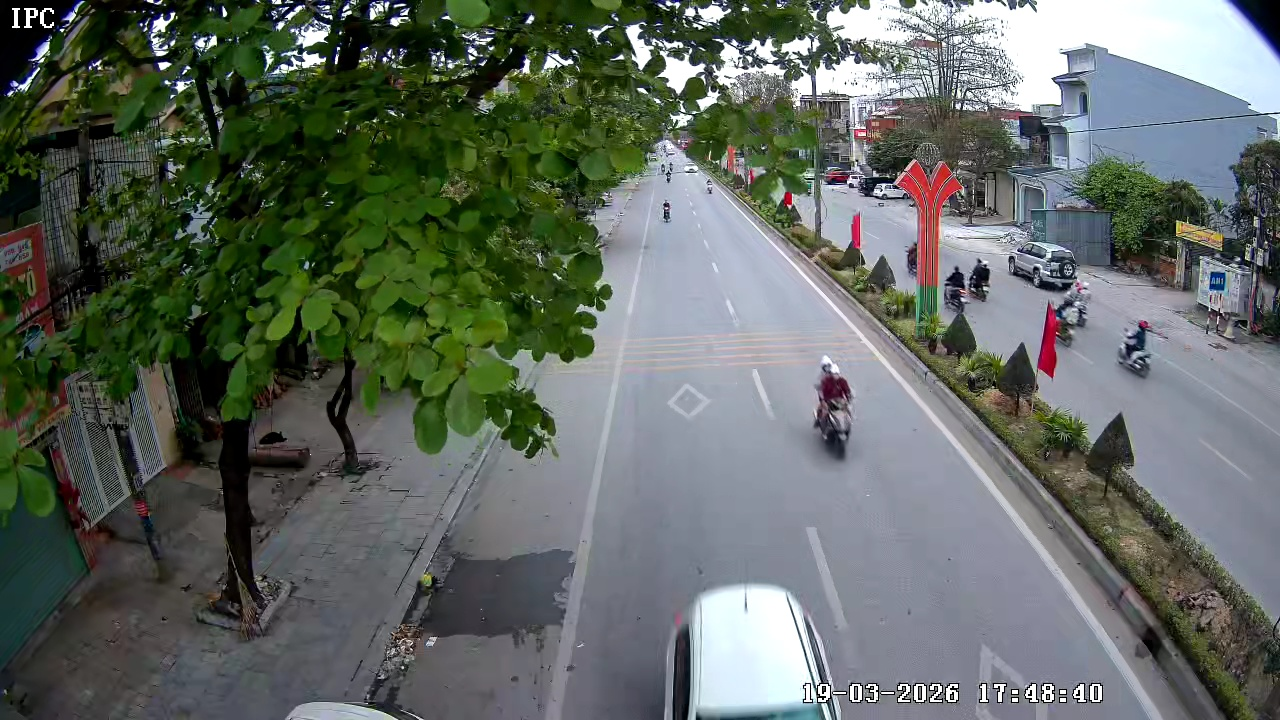car: (660, 583, 843, 719), (1007, 240, 1084, 291)
motorbike: (810, 356, 857, 460), (1116, 318, 1156, 378), (1061, 279, 1092, 331), (968, 257, 993, 303), (660, 197, 674, 224)
